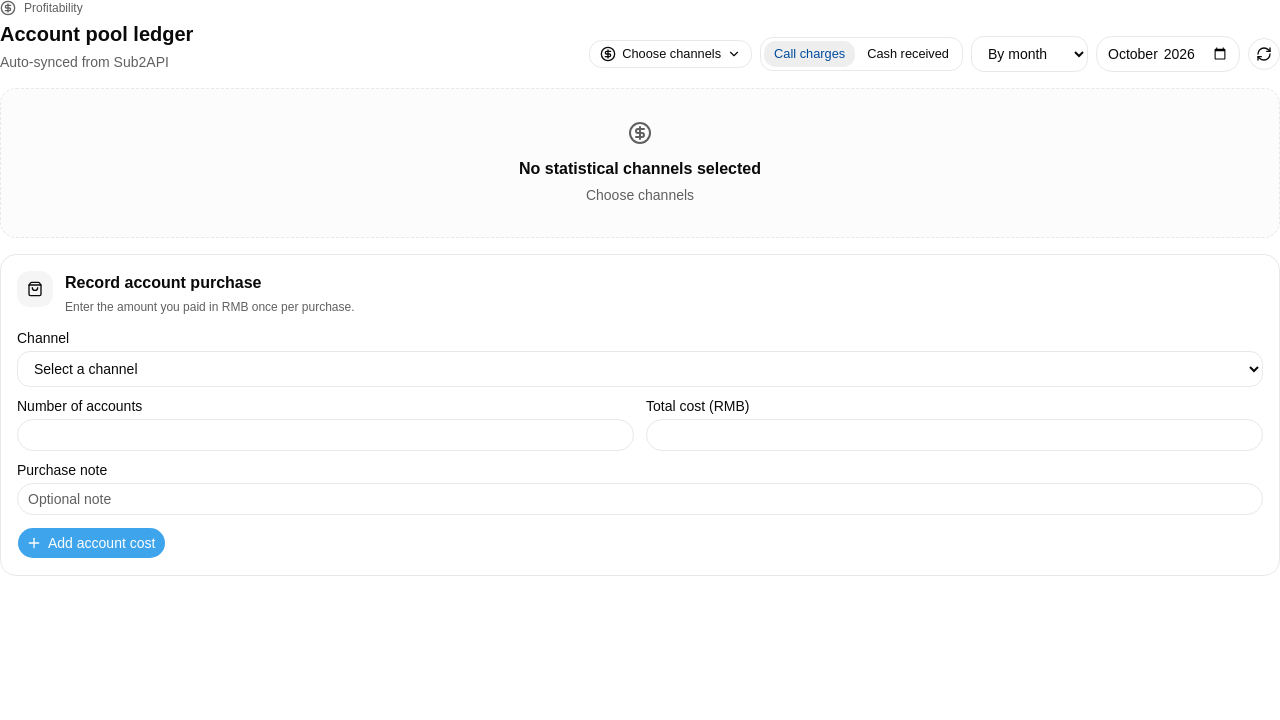
Test: ProfitabilityCalculator › offers only enabled purchase channels while retaining disabled statistical history
Click the button with aria-label "Statistical channels": (671, 54) top-left (589, 40), bottom-right (752, 68)
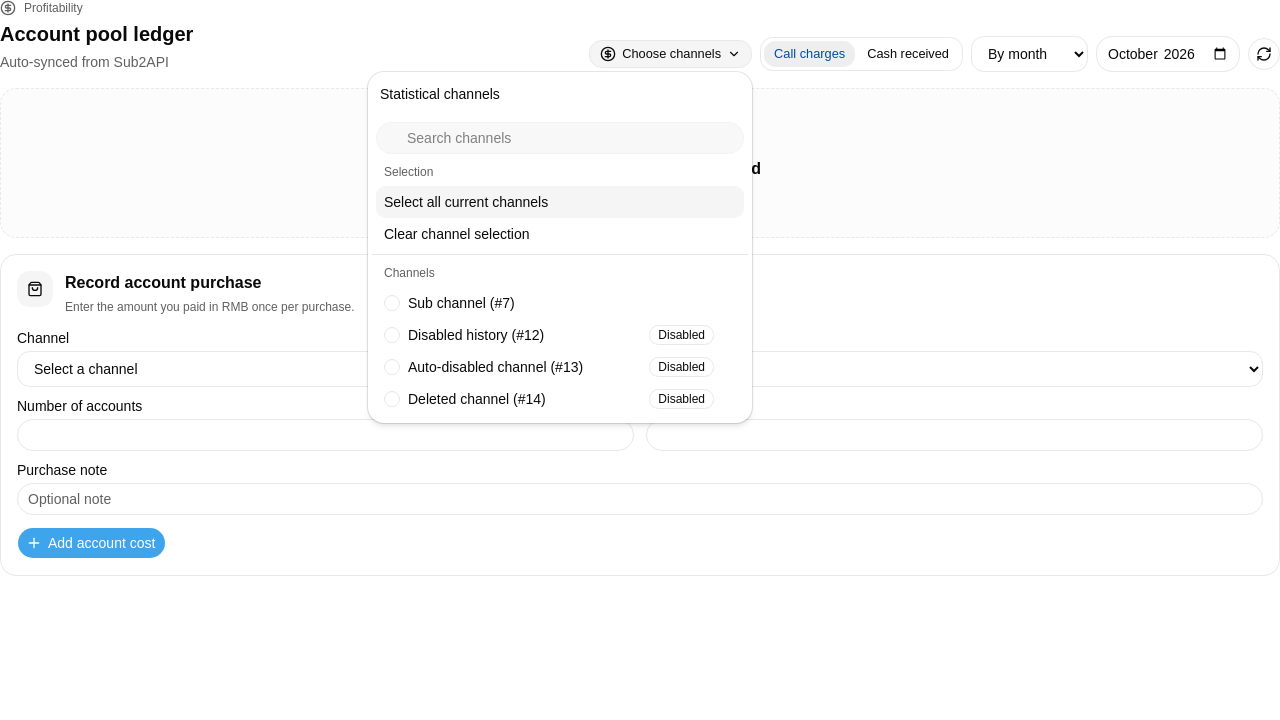
Expected: the option "Disabled history (#12) Disabled" is shown, top-left (376, 319), bottom-right (744, 351)
